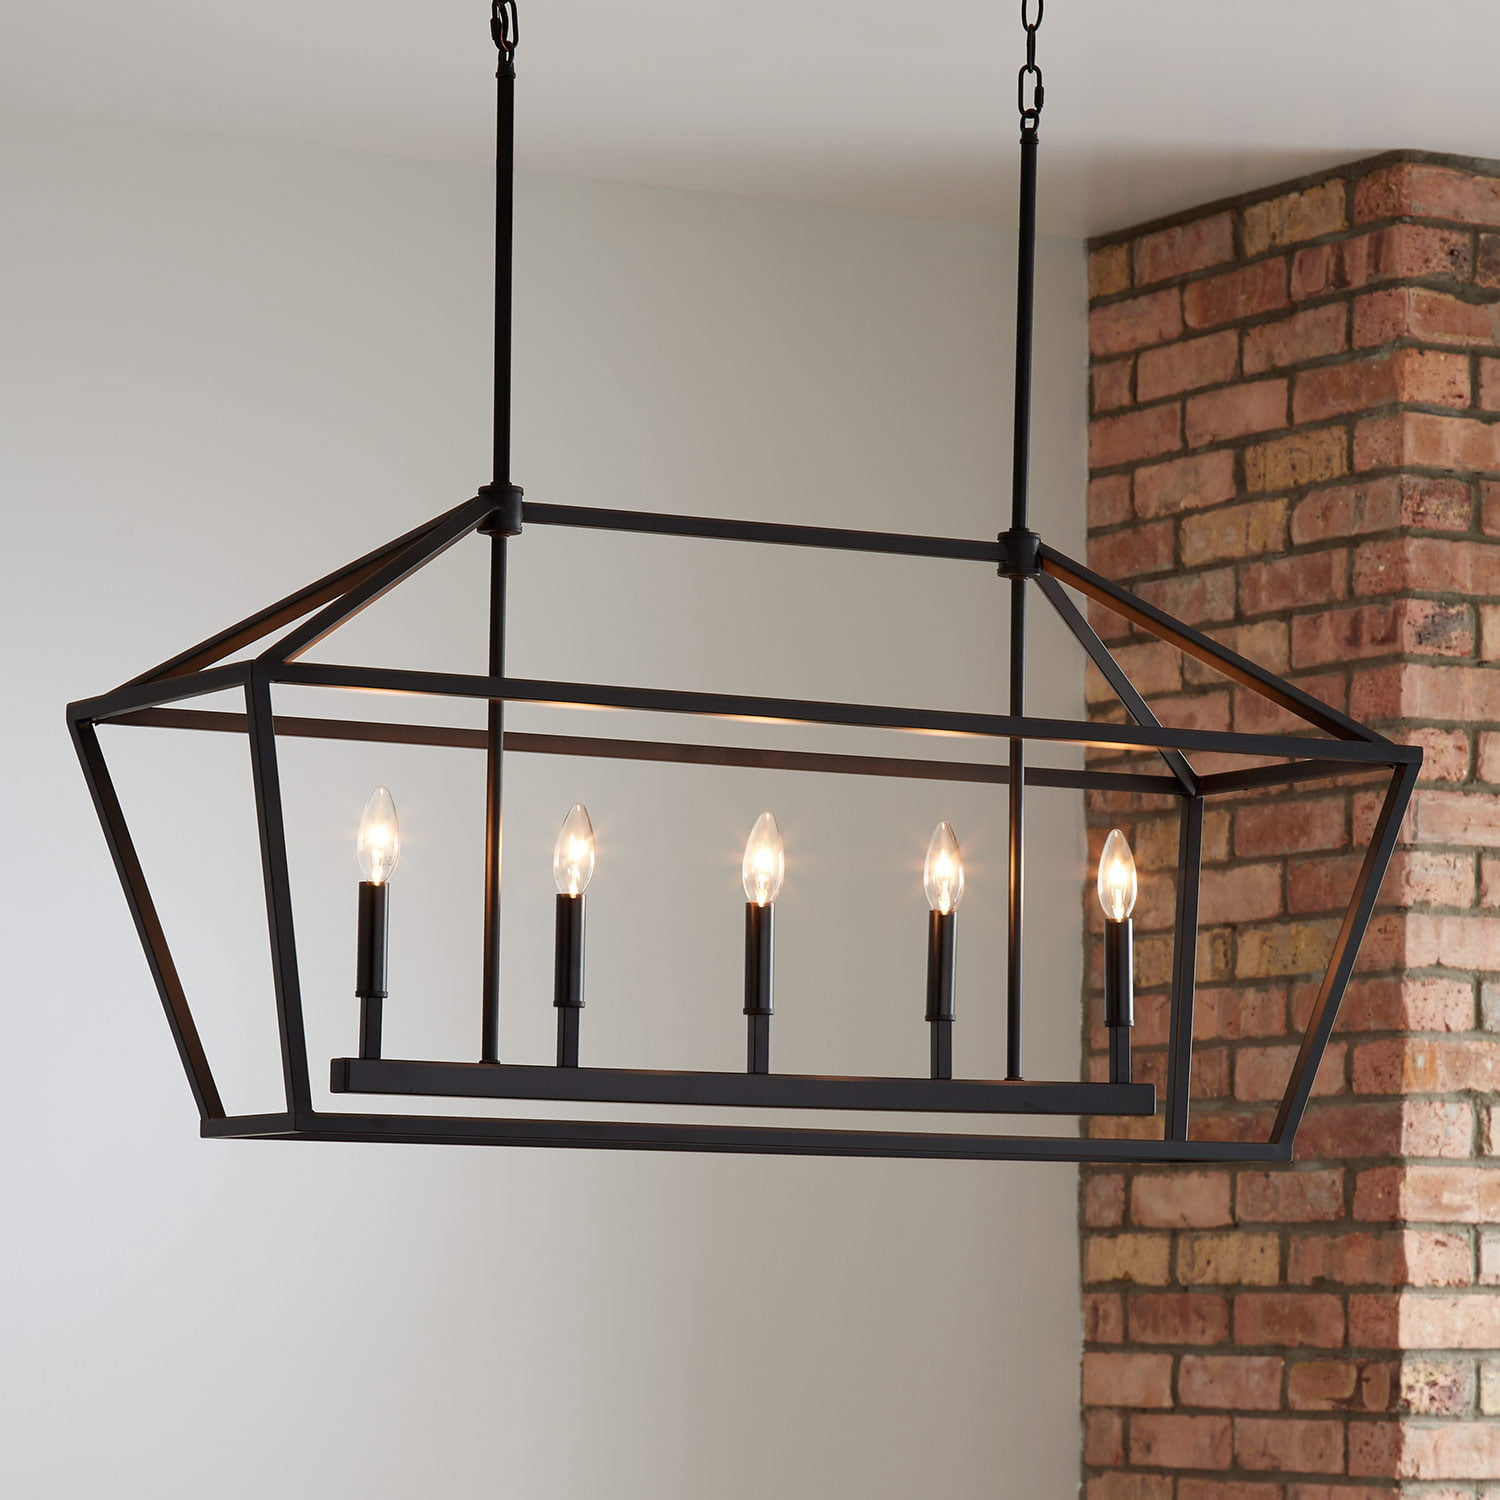chandelier: (52, 19, 1444, 1225)
